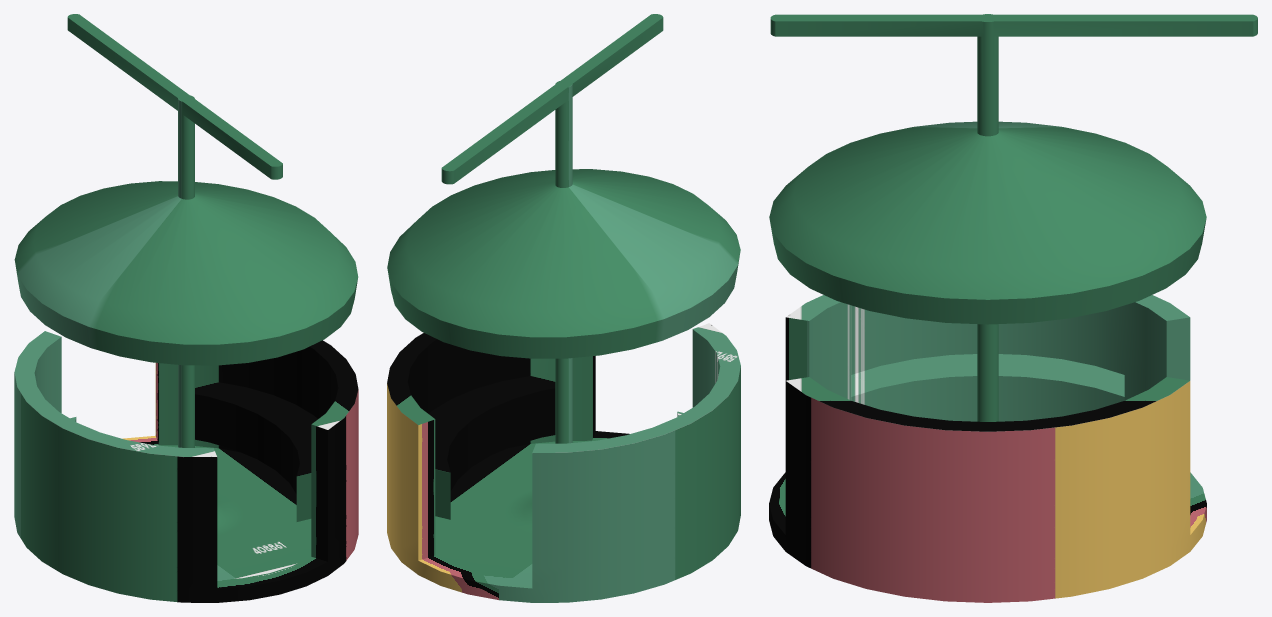
The model's file is silla_rueda.obj.
The picture shows the model from 3 angles, left to right: view 1: azimuth 30°, elevation 25°; view 2: azimuth 150°, elevation 25°; view 3: azimuth 270°, elevation 25°; orthographic projection. The views are drawn at different scales.
Parts seen in each view (by area): view 1: Brazo_mini.001_Cylinder.031; view 2: Brazo_mini.001_Cylinder.031; view 3: Brazo_mini.001_Cylinder.031.
Boxes of the visible parts, x1,y1,x2,y2 form: Brazo_mini.001_Cylinder.031: [14, 14, 358, 602]; Brazo_mini.001_Cylinder.031: [387, 14, 740, 602]; Brazo_mini.001_Cylinder.031: [769, 14, 1257, 602].
Size of the model in its own units: 5.05 by 7.15 by 6.31.
